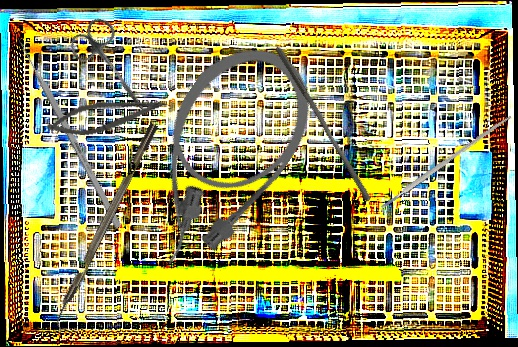Cannula: (103, 24, 335, 288)
Chopper: (47, 122, 169, 335)
Iris Scissors: (63, 12, 169, 131)
Micro Scissor: (44, 83, 171, 146)
Pusher: (11, 29, 123, 229), (268, 44, 378, 204)
Scalpel Handle: (379, 113, 513, 210)
